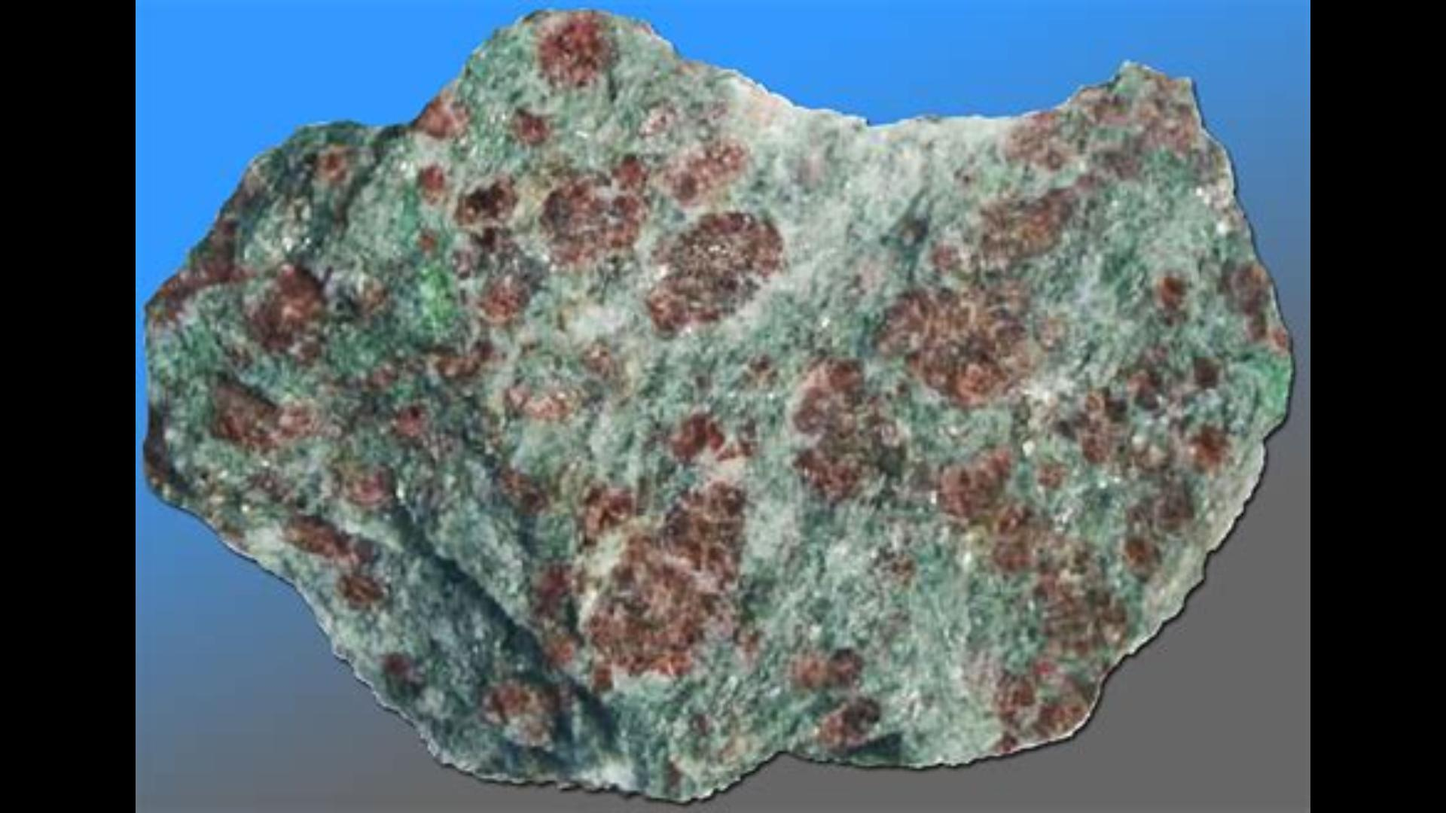rock: (145, 12, 1289, 798)
